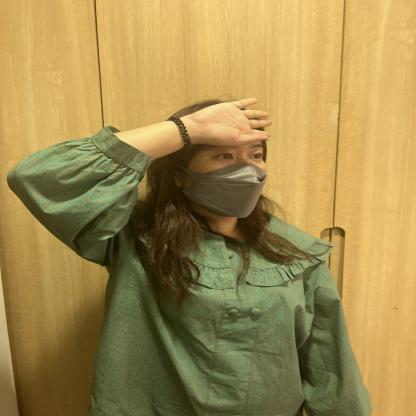Sick: (95, 74, 304, 171)
